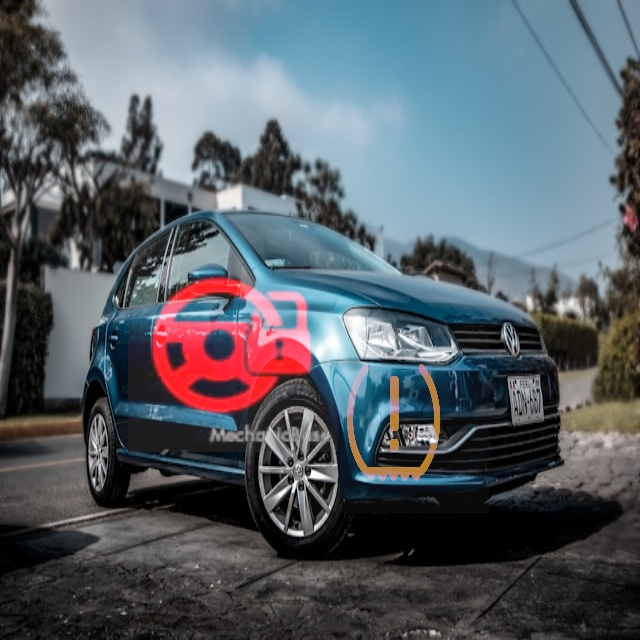symbol: (128, 242, 338, 452), (298, 322, 489, 513)
